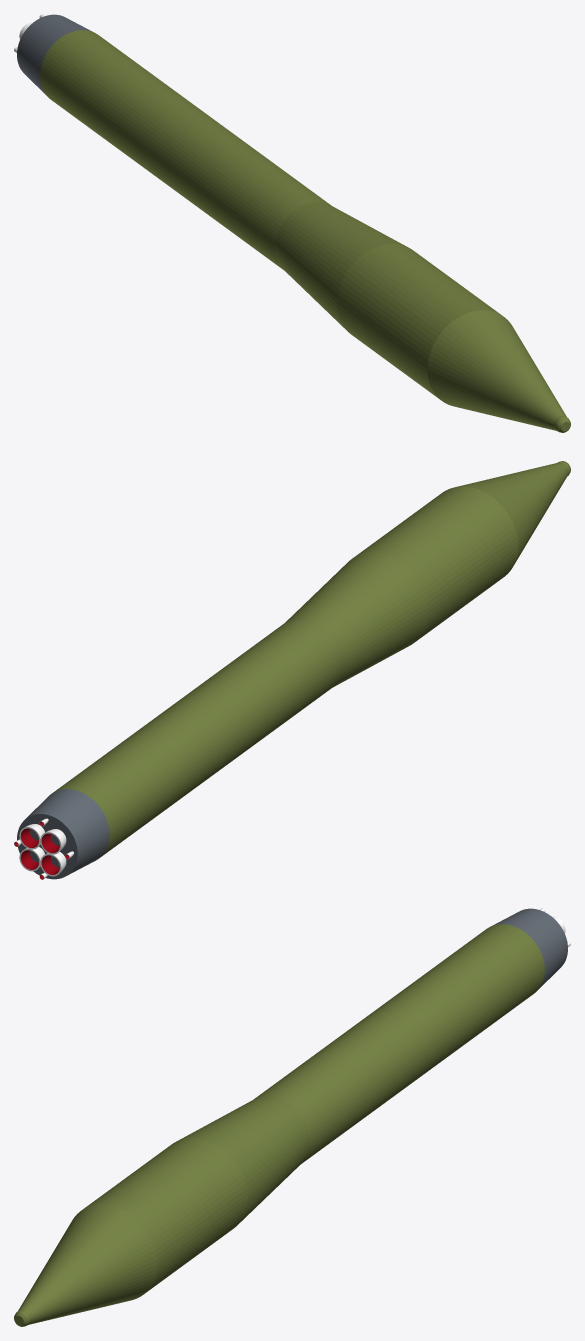
The model's file is R-7_main.glb.
3 renders of one model, top to bottom at view 1: azimuth 30°, elevation 25°; view 2: azimuth 150°, elevation 25°; view 3: azimuth 330°, elevation 25°, orthographic.
Visible parts, largest first — view 1: 2nd; view 2: 2nd; view 3: 2nd.
Part boxes in pixels (left/top/right/bottom): 2nd: left=14, top=14, right=570, bottom=432; 2nd: left=14, top=461, right=570, bottom=879; 2nd: left=14, top=908, right=570, bottom=1326.
Bounding box in the file's own units: 12.16 × 12.16 × 122.
